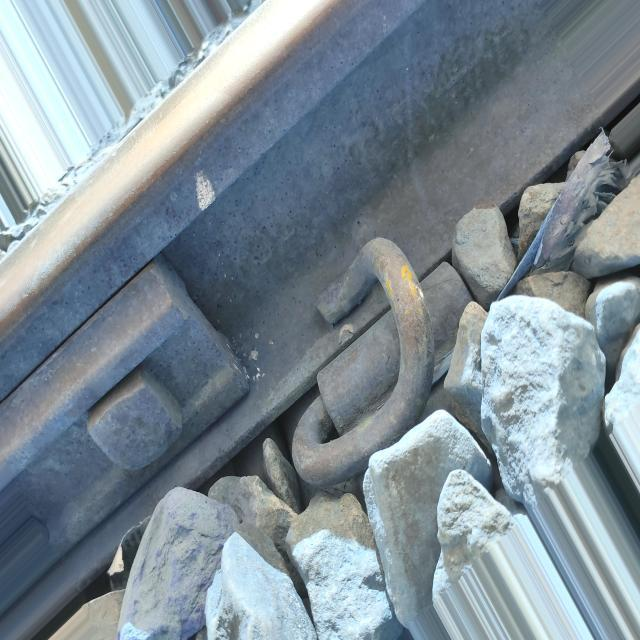Good Fasteners: (292, 237, 472, 488)
